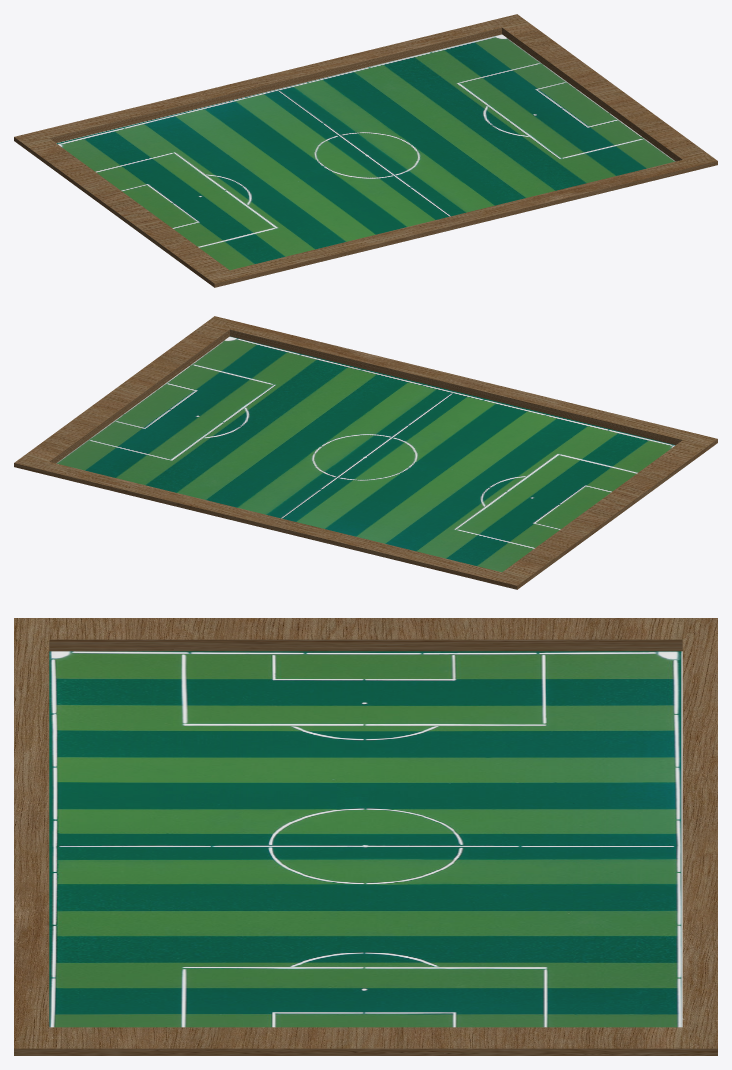
File: FootballBoard.glb
The picture shows the model from 3 angles, top to bottom: view 1: azimuth 30°, elevation 25°; view 2: azimuth 150°, elevation 25°; view 3: azimuth 270°, elevation 25°; orthographic projection. The views are drawn at different scales.
Visible parts, largest first — view 1: FootballBoard; view 2: FootballBoard; view 3: FootballBoard.
Part boxes in pixels (<box>): FootballBoard: <box>14,14,717,287</box>; FootballBoard: <box>14,316,717,589</box>; FootballBoard: <box>14,618,717,1055</box>.
Bounding box in the file's own units: 1.94 × 0.05 × 1.34.
Materials: 2 (2 with a texture image).
